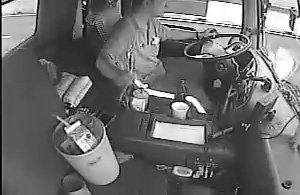cup: (169, 101, 190, 120)
